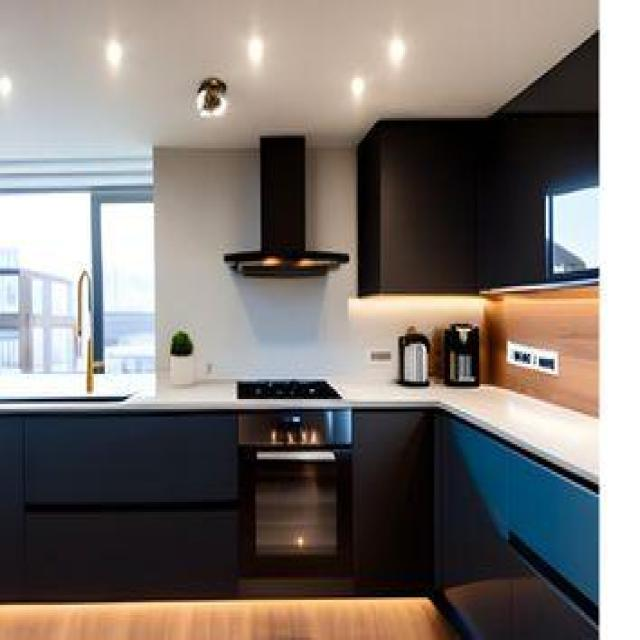Wall: (0, 0, 597, 157), (155, 148, 484, 381), (0, 597, 458, 639), (154, 80, 359, 148), (486, 286, 597, 403), (483, 331, 597, 416)
